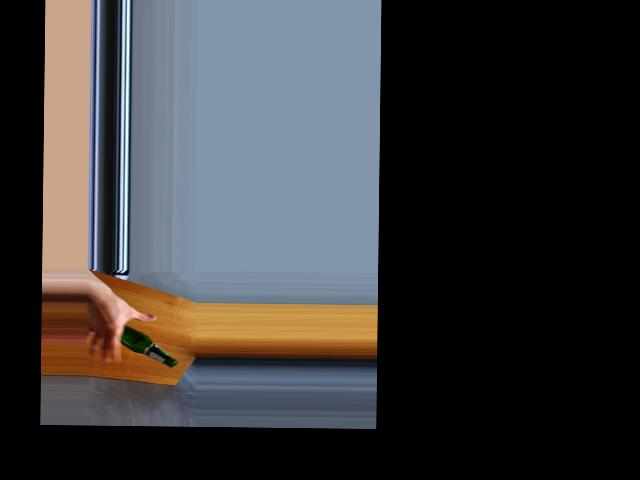beer: (120, 324, 177, 367)
